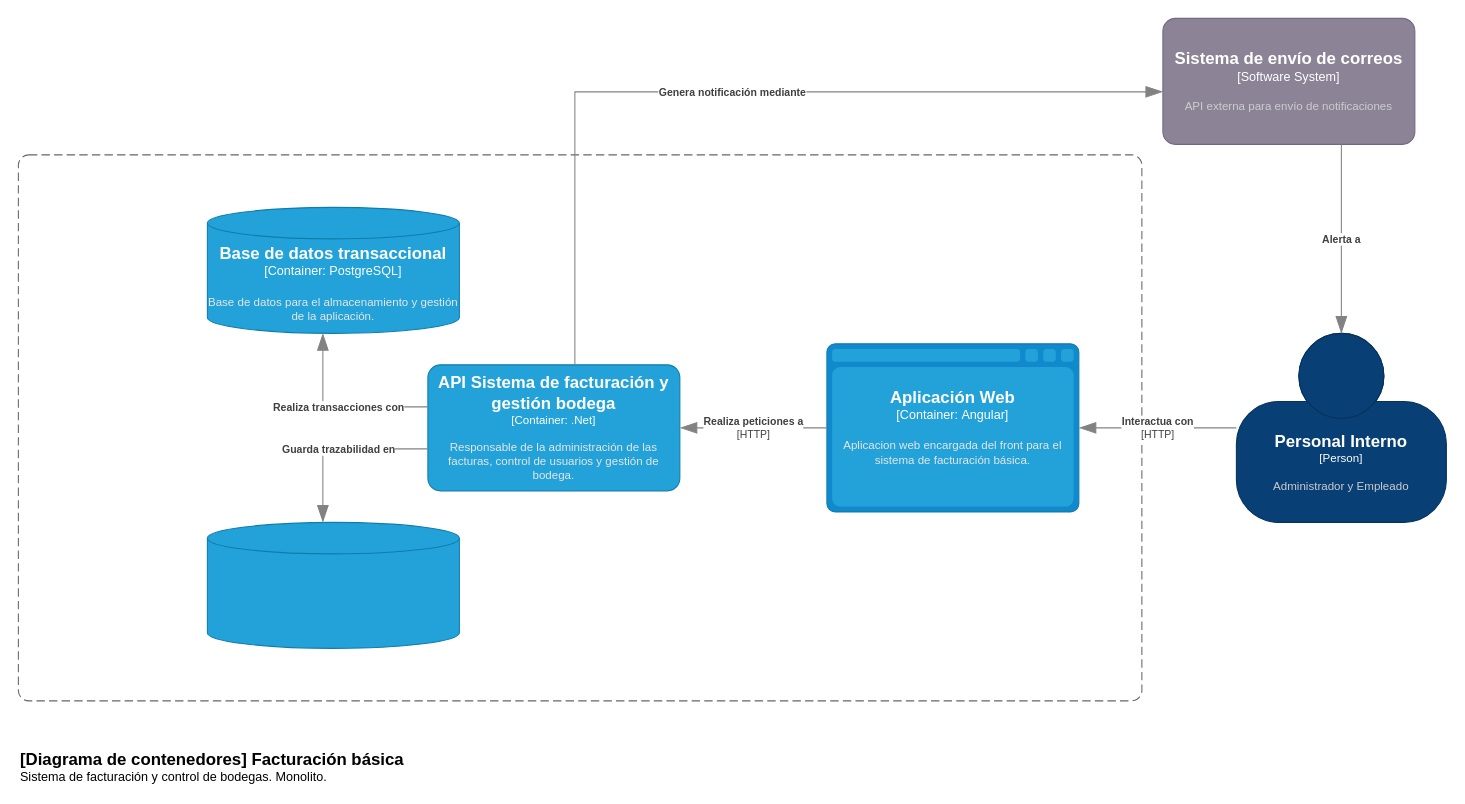
Image size: 1465x804. Some labels were removed from this diagram. The shapes that lost their labels are listed below. From the top down, each one's box as (x1, y1, x2, y2) in pixels, then its label:
(17, 154, 1142, 701): Sistema de facturación [Software System]
(206, 521, 459, 648): Base de datos auditoría [Container: MongoDB] Base de datos de auditoría
